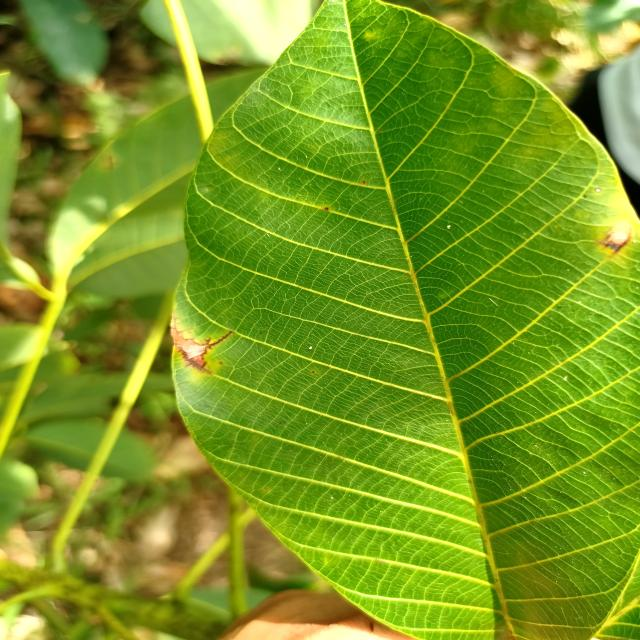Colletotrichum: (361, 181, 366, 184), (324, 207, 329, 210), (312, 371, 315, 373)
Corynespora: (170, 313, 233, 375), (205, 331, 233, 349)
Leaf-Blight: (604, 222, 632, 244), (184, 345, 206, 358)
